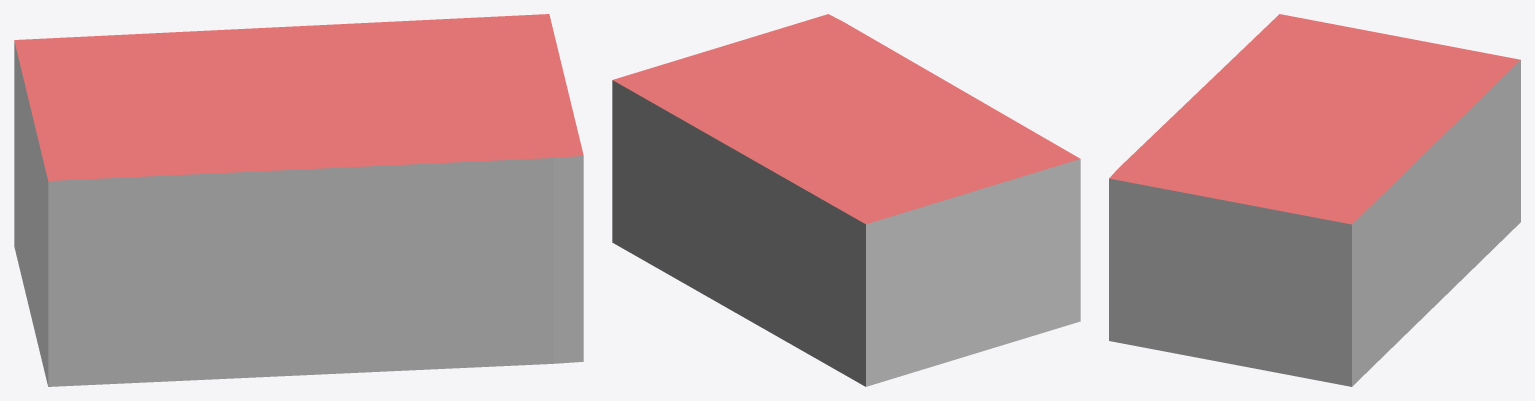
File: DEBY_LOD2_60041.gltf
3 renders of one model, left to right at view 1: azimuth 30°, elevation 25°; view 2: azimuth 150°, elevation 25°; view 3: azimuth 270°, elevation 25°, orthographic. The views are drawn at different scales.
Parts seen in each view (by area): view 1: Z_UP; view 2: Z_UP; view 3: Z_UP.
Part boxes in pixels (x1=…): Z_UP: x1=14, y1=14, x2=583, y2=386; Z_UP: x1=612, y1=14, x2=1080, y2=386; Z_UP: x1=1109, y1=14, x2=1520, y2=386.
Size of the model in its own units: 9.29 by 3.34 by 7.68.
